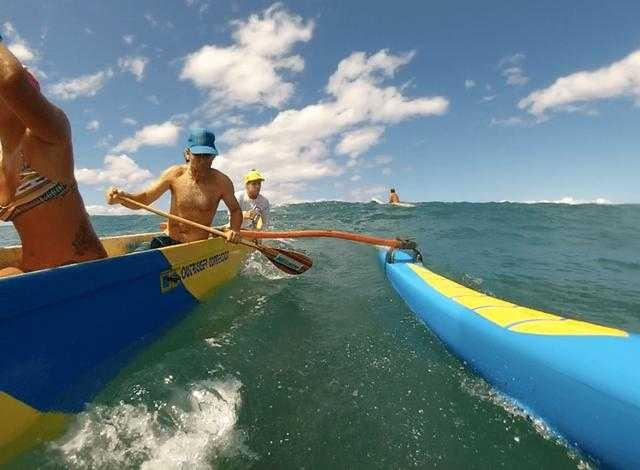kayak: (1, 230, 310, 447), (379, 245, 639, 465)
